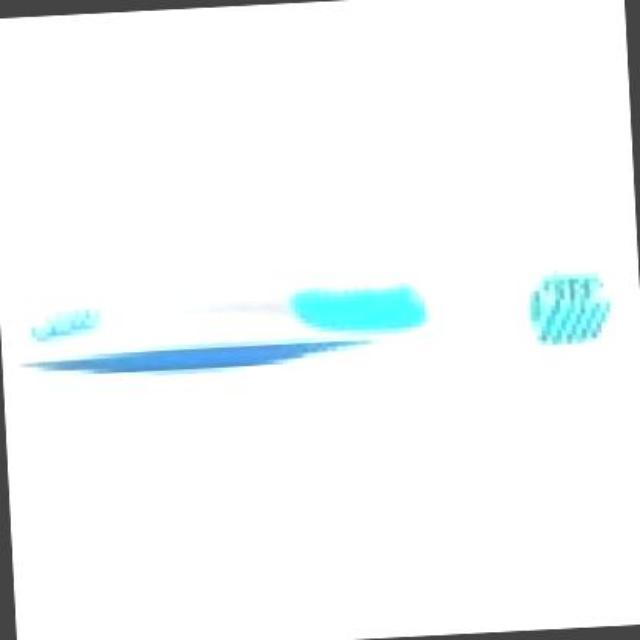toothbrush: (0, 253, 638, 391)
